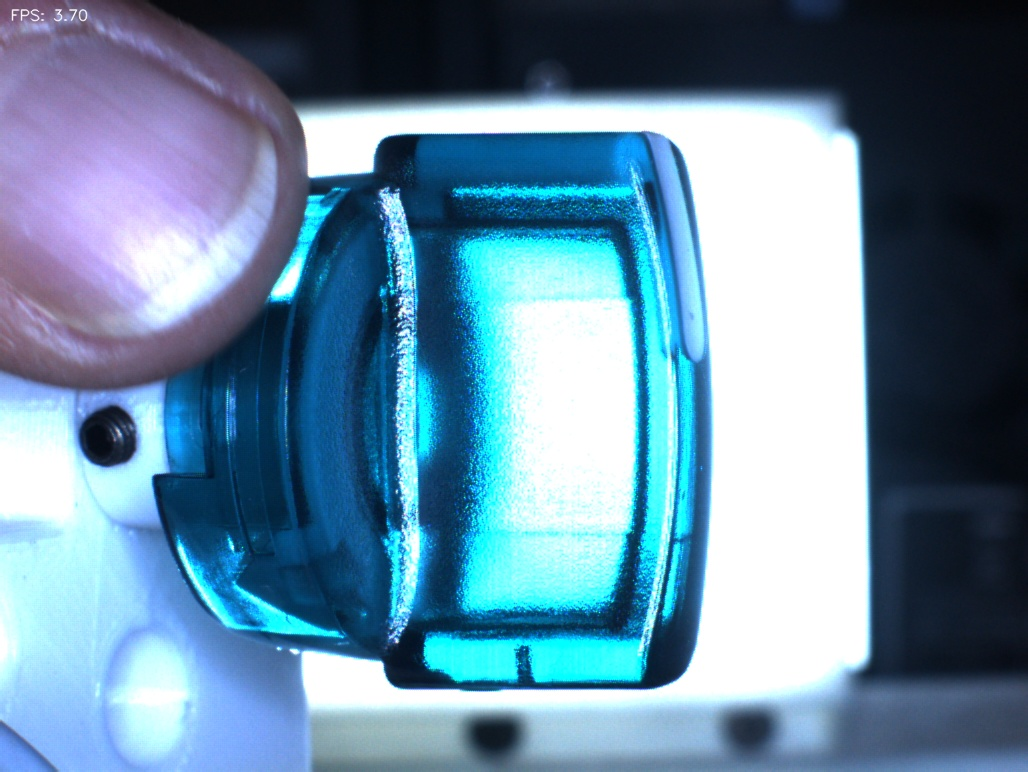Bulle: (488, 637, 561, 707)
